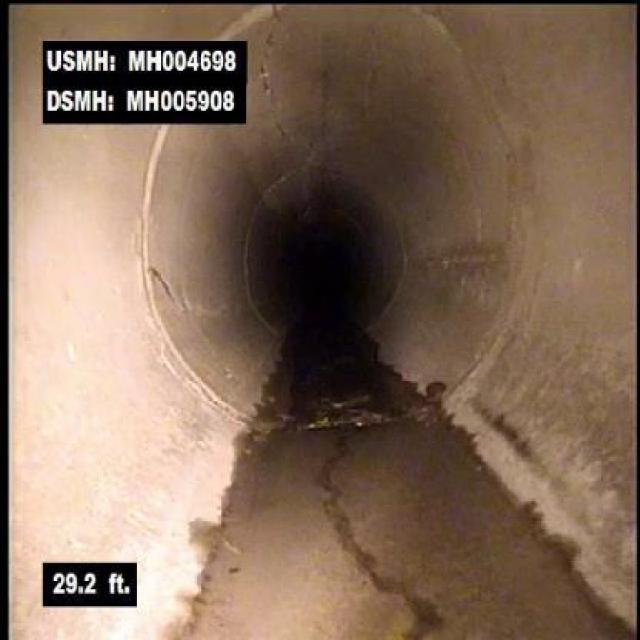Crack: (322, 484, 451, 638), (254, 8, 288, 112)
